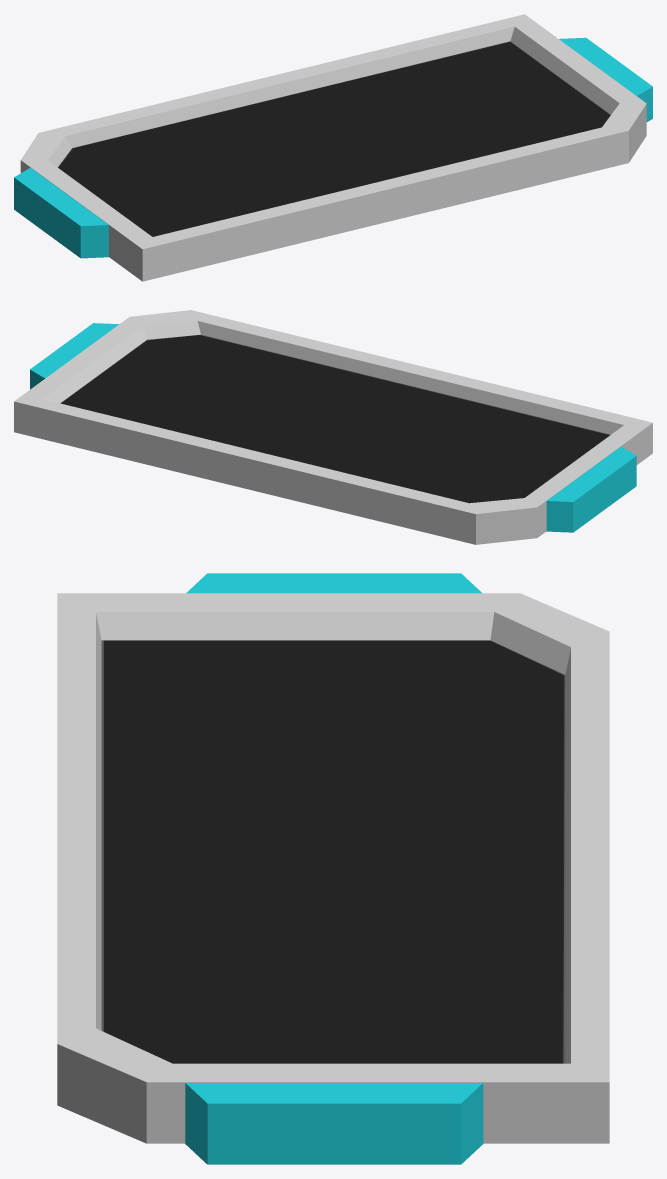
Rendered from Initial_Environment_Signage 2_Ver1.fbx.
3 views of the same model, one above another, from view 1: azimuth 30°, elevation 25°; view 2: azimuth 150°, elevation 25°; view 3: azimuth 270°, elevation 25° (orthographic). The views are drawn at different scales.
Visible parts, largest first — view 1: Plane; view 2: Plane; view 3: Plane.
Part boxes in pixels (x1,y1,x2,y2): Plane: (14, 14, 652, 281); Plane: (14, 310, 652, 544); Plane: (57, 573, 609, 1164).
Bounding box in the file's own units: 115 × 6.27 × 50.7.
2 materials, 2 textured.
